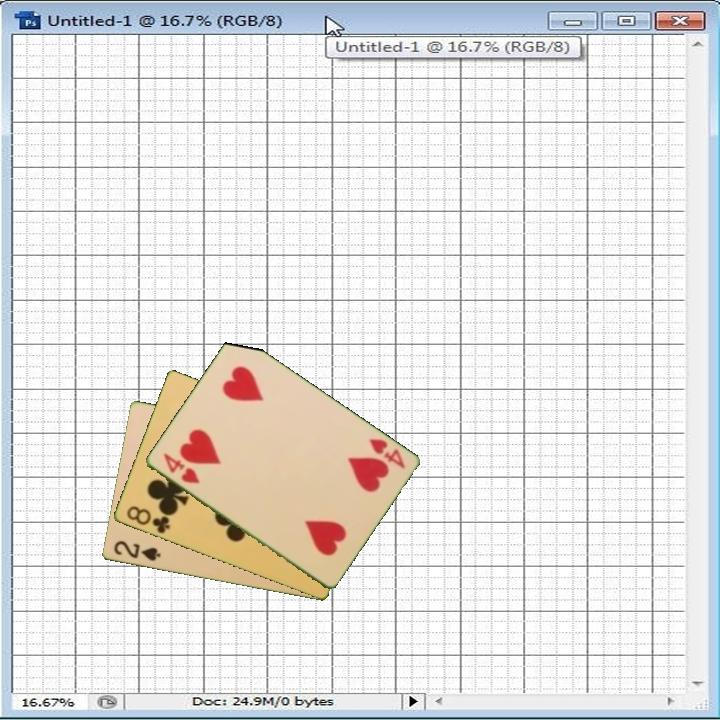2s: (110, 537, 163, 564)
4h: (159, 449, 202, 487), (365, 435, 408, 472)
8c: (122, 502, 172, 537)
